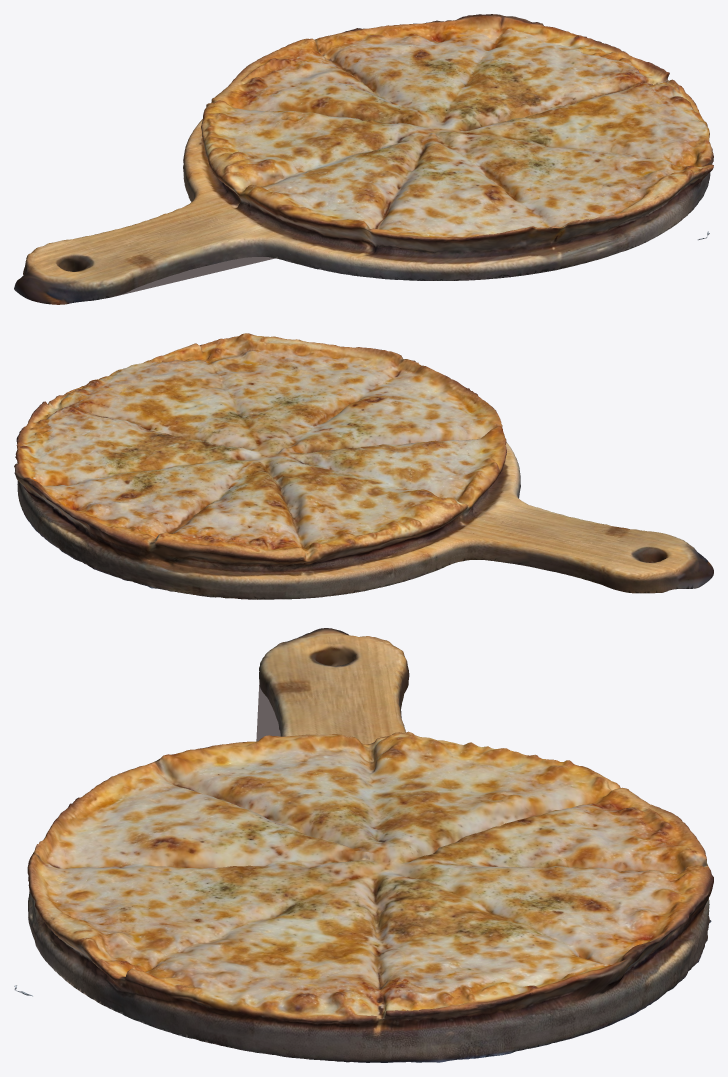
The model's file is Pizza,Panir.glb.
3 views of the same model, one above another, from view 1: azimuth 30°, elevation 25°; view 2: azimuth 150°, elevation 25°; view 3: azimuth 270°, elevation 25° (orthographic). The views are drawn at different scales.
Parts seen in each view (by area): view 1: 3DModel; view 2: 3DModel; view 3: 3DModel.
Boxes of the visible parts, box(x1,y1,x2,y2) form: 3DModel: box(14, 14, 713, 304); 3DModel: box(14, 333, 713, 599); 3DModel: box(14, 628, 713, 1062).
Size of the model in its own units: 0.4287 by 0.034 by 0.298.
Materials: 1 (1 with a texture image).
